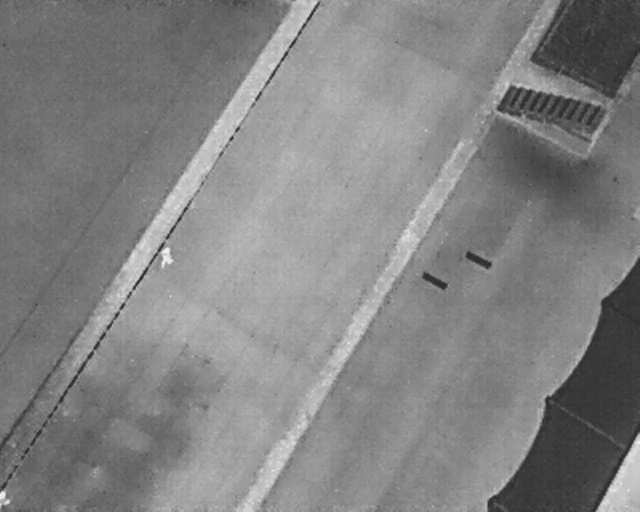Person: (157, 245, 175, 269)
